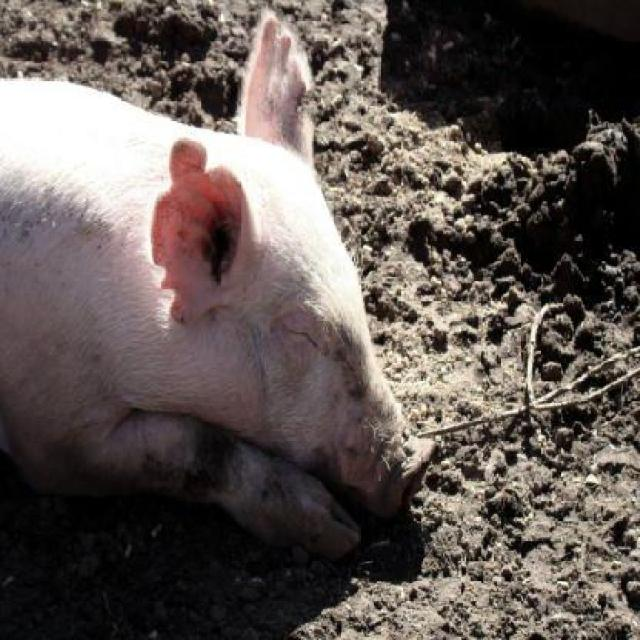Boar: (0, 12, 438, 558)
